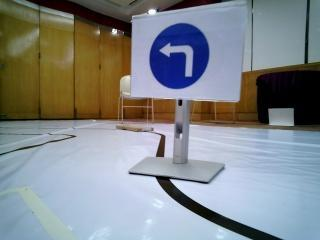left: (145, 19, 219, 92)
